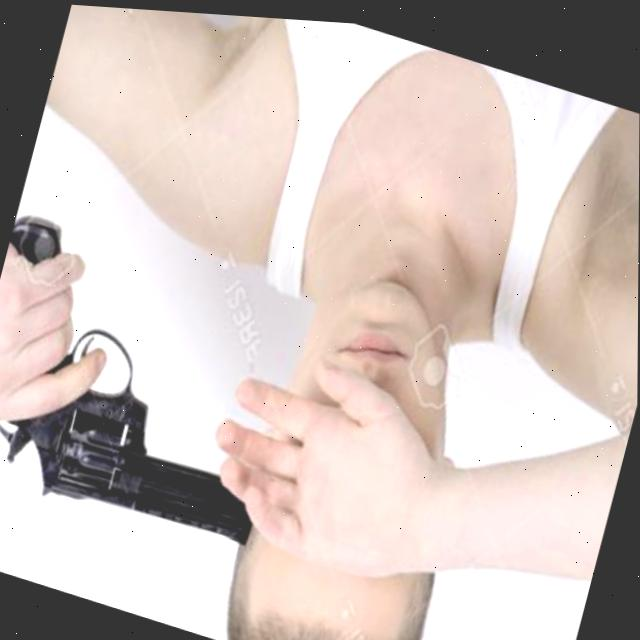pistol: (0, 194, 327, 576)
